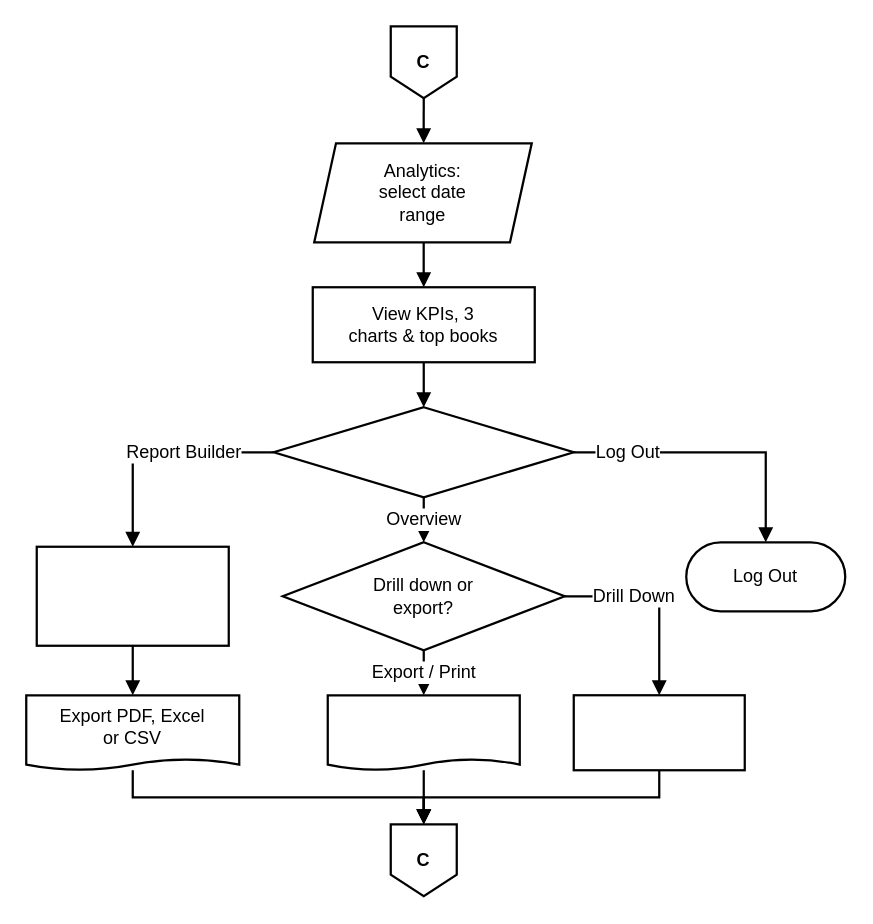
The diagram is 873 pixels wide and 924 high, and some of its shapes have lost their labels. The shapes that lost their labels are listed below. From the top down, each one's centre as x and y in pixels, then its label:
[423,451]: Select action?
[132,595]: Report Builder: datasets & sections
[423,732]: Export Excel or print
[658,732]: Inspect chart slice or book
